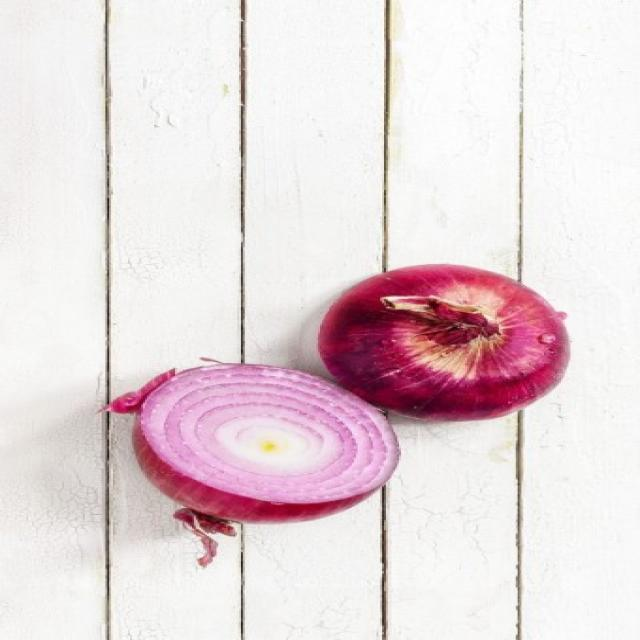Onion: (307, 248, 623, 422), (140, 350, 432, 536)
